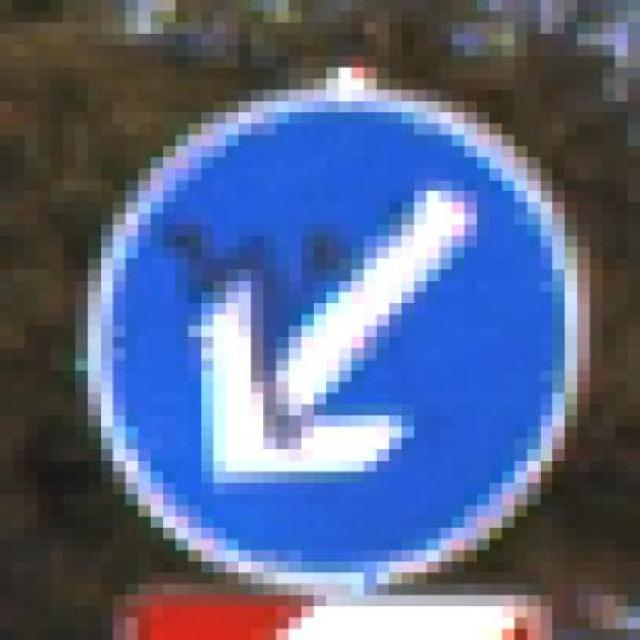Keep-Left: (50, 67, 615, 584)
